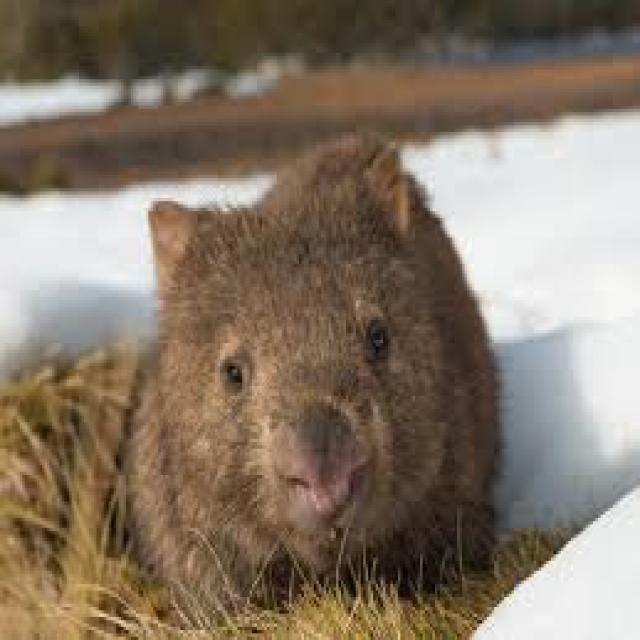Wombat: (122, 128, 510, 612)
